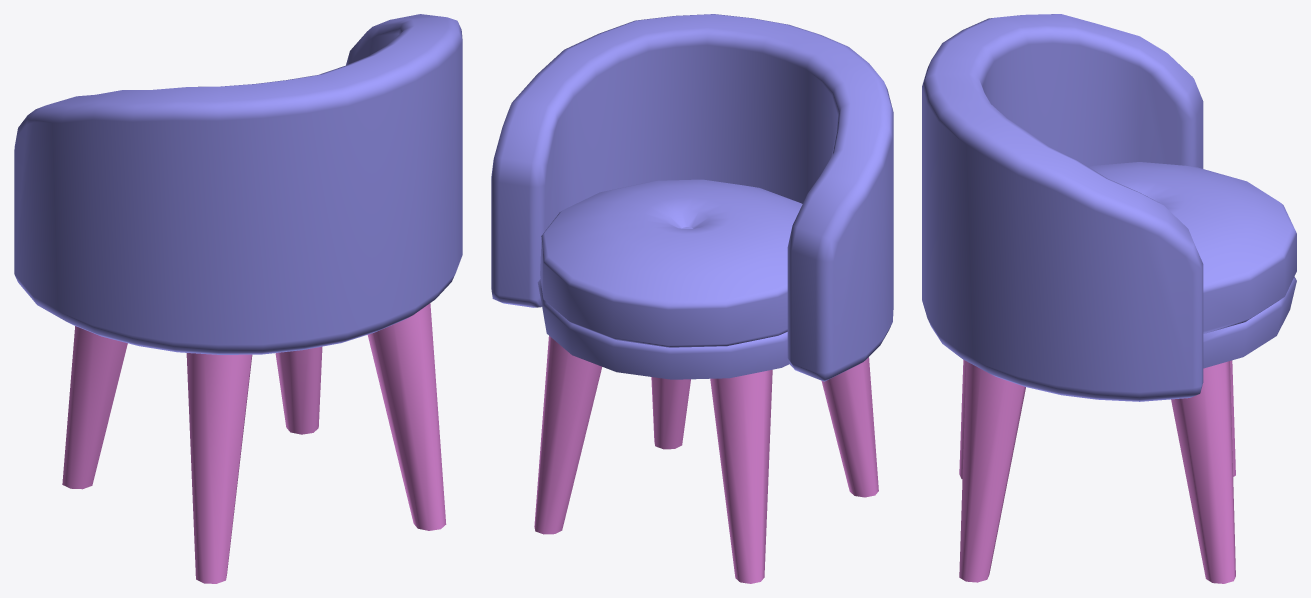
The model's file is Chair_Comfy.fbx.
3 renders of one model, left to right at view 1: azimuth 30°, elevation 25°; view 2: azimuth 150°, elevation 25°; view 3: azimuth 270°, elevation 25°, orthographic. The views are drawn at different scales.
Visible parts, largest first — view 1: Chair_Comfy; view 2: Chair_Comfy; view 3: Chair_Comfy.
Part boxes in pixels (<box>): Chair_Comfy: <box>14,14,462,583</box>; Chair_Comfy: <box>491,14,893,583</box>; Chair_Comfy: <box>922,14,1296,583</box>.
Bounding box in the file's own units: 81.26 × 93.01 × 69.96.
